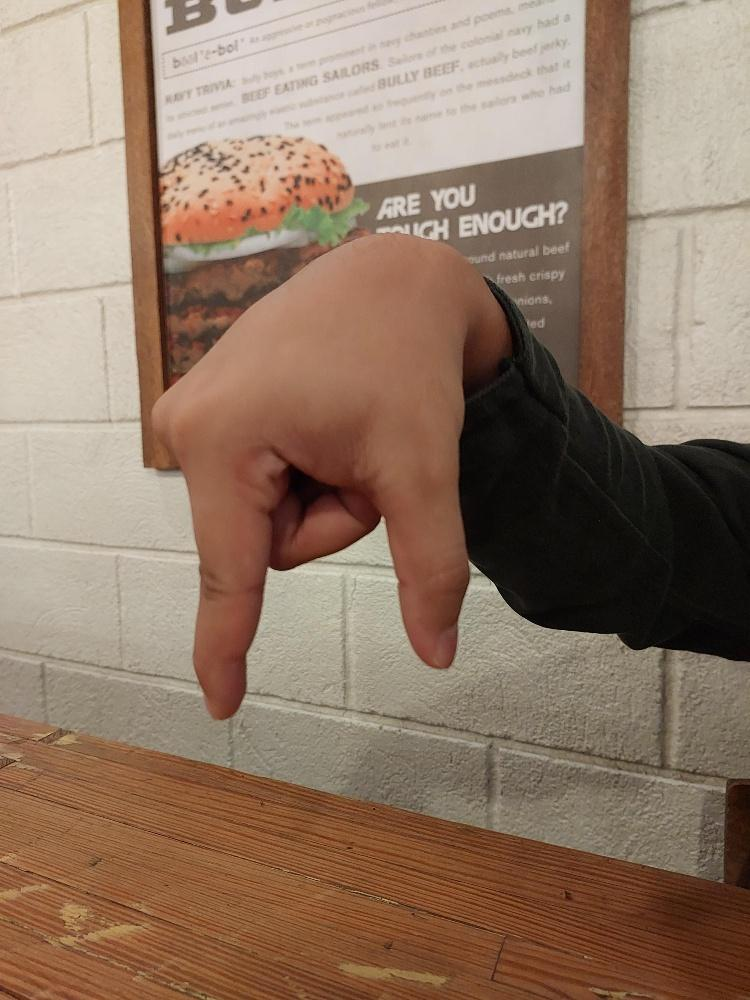q: (148, 228, 474, 723)
